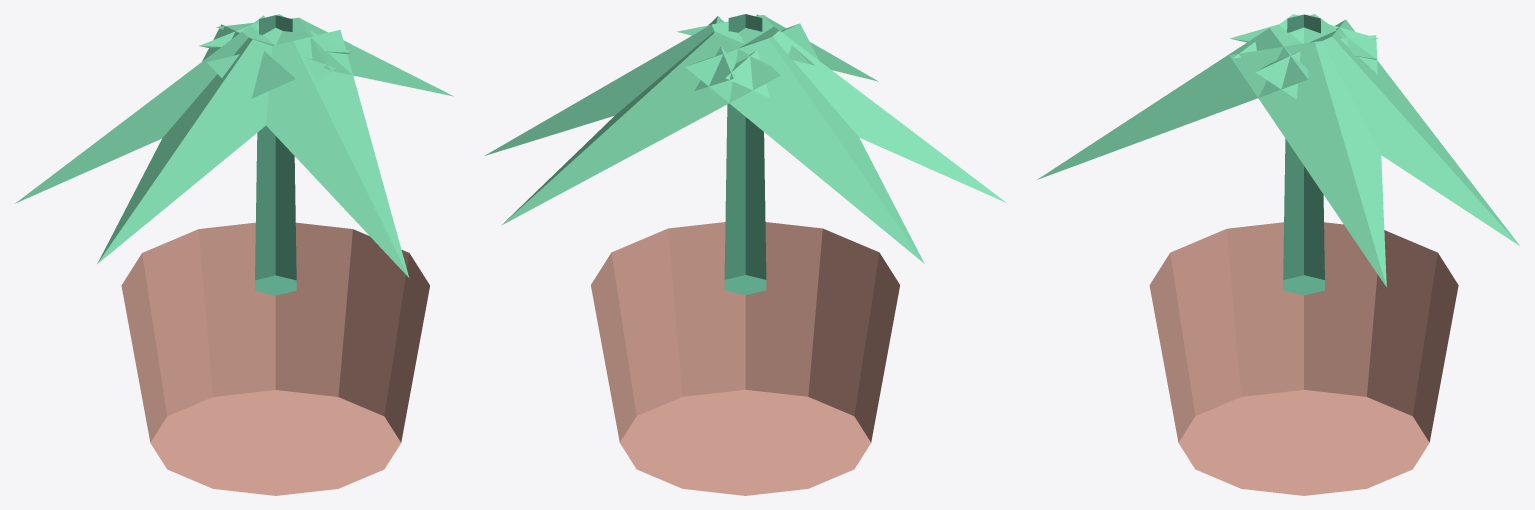
The model's file is plant-tropical.glb.
3 renders of one model, left to right at view 1: azimuth 30°, elevation 25°; view 2: azimuth 150°, elevation 25°; view 3: azimuth 270°, elevation 25°, orthographic.
Parts seen in each view (by area): view 1: Vaso, Folhas, Caule; view 2: Vaso, Folhas, Caule; view 3: Vaso, Folhas, Caule.
Part boxes in pixels (box(x1,y1,x2,y2)): Vaso: box(121, 222, 429, 495); Folhas: box(15, 14, 453, 277); Caule: box(255, 15, 296, 295); Vaso: box(591, 222, 899, 495); Folhas: box(484, 14, 1006, 263); Caule: box(724, 14, 766, 295); Vaso: box(1149, 222, 1458, 495); Folhas: box(1037, 14, 1519, 286); Caule: box(1283, 14, 1324, 295).
Bounding box in the file's own units: 0.5271 × 0.48 × 0.5013.
